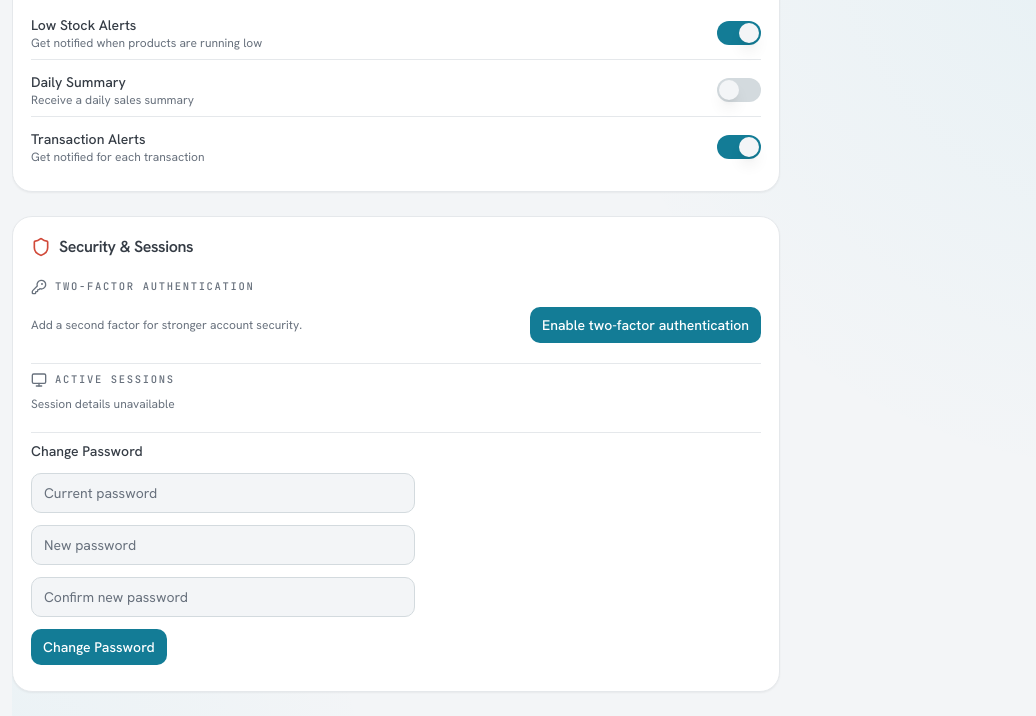
Test: UserProfile change-password control › surfaces the backend error detail when the current password is wrong
(page scrolled)
Type "WrongPass1" into the password field with placeholder "Current password".
click(223, 492); type("WrongPass1")  # box left=31, top=472, right=415, bottom=512
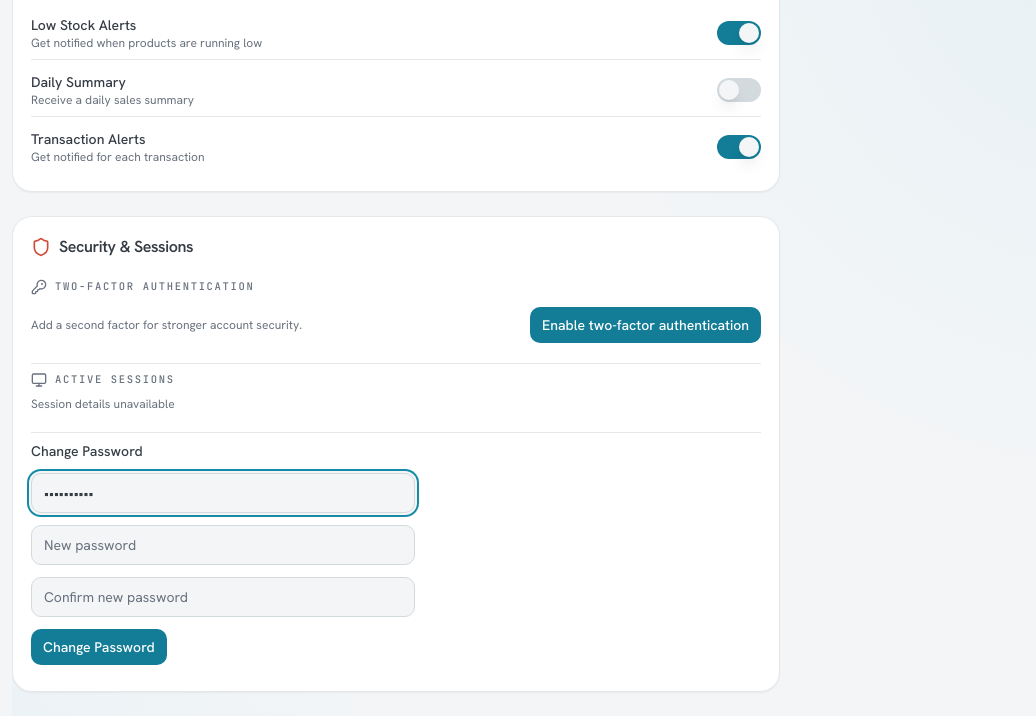
Type "NewPass123" into the password field with placeholder "New password".
click(223, 544); type("NewPass123")  # box left=31, top=524, right=415, bottom=564
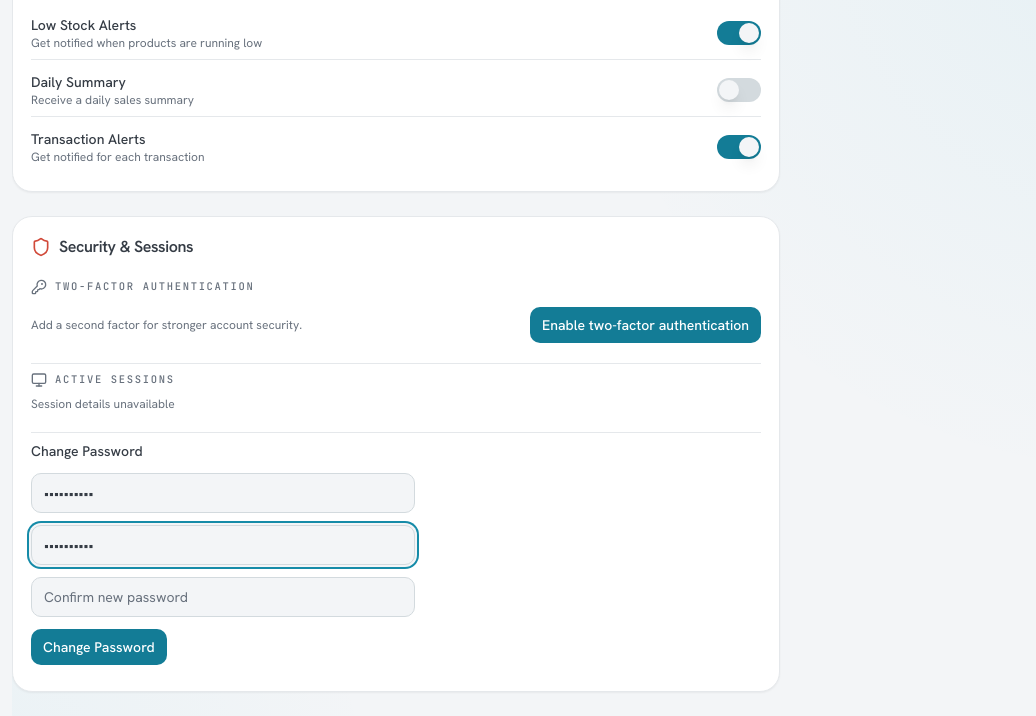
Type "NewPass123" into the password field with placeholder "Confirm new password".
click(223, 596); type("NewPass123")  # box left=31, top=576, right=415, bottom=616
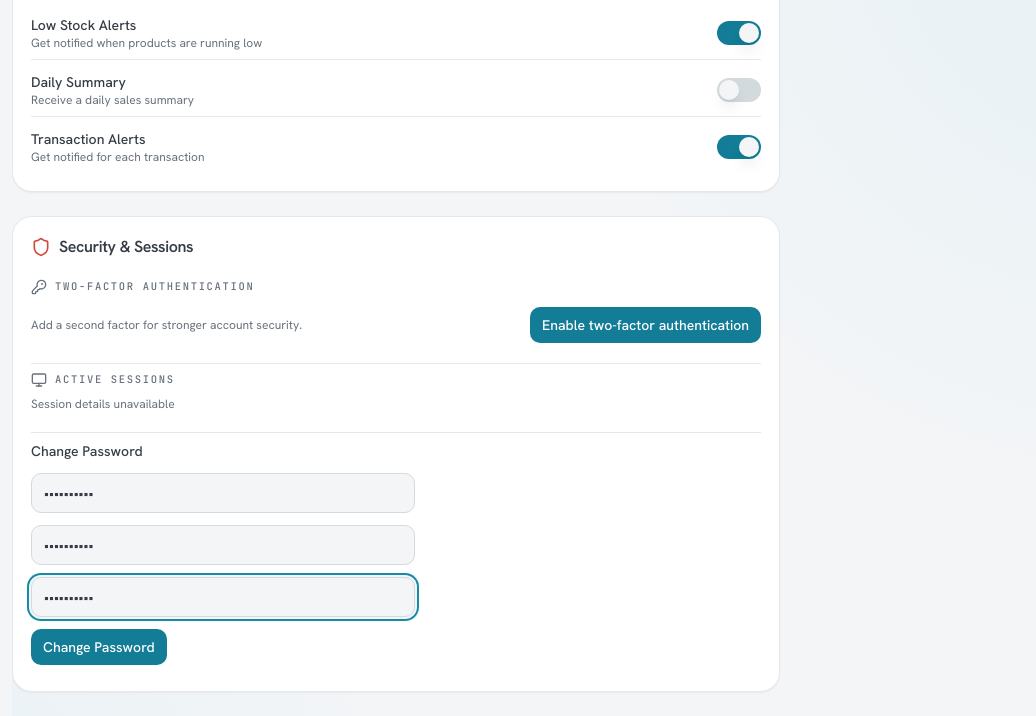
Click the button "Change Password".
click(99, 646)  # box left=31, top=628, right=167, bottom=664
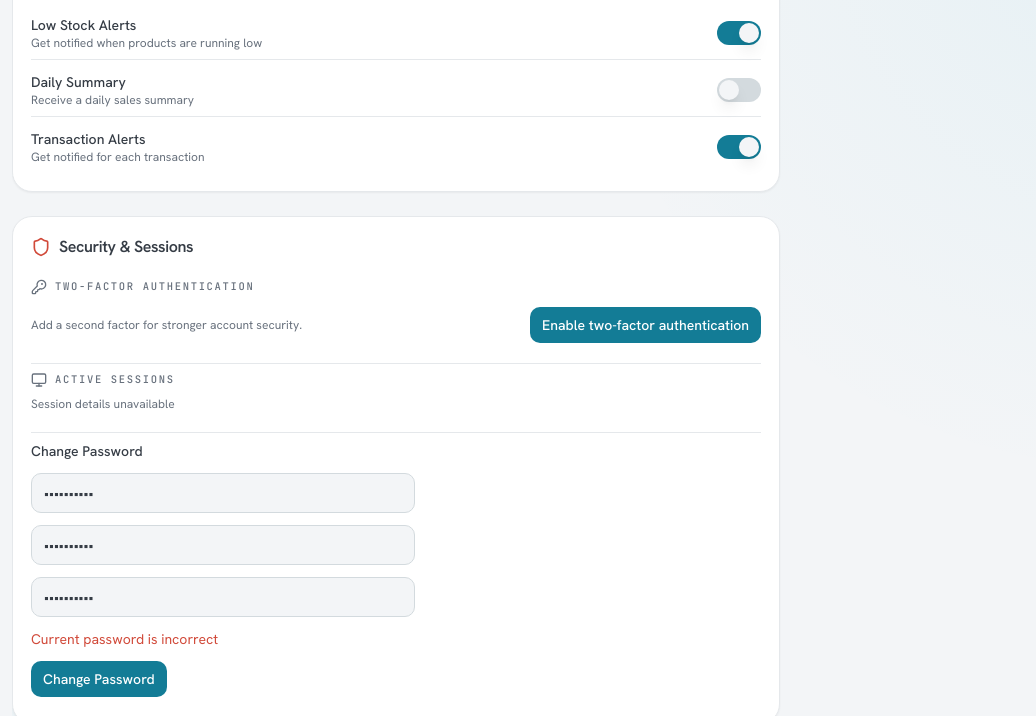
Check: the text "Current password is incorrect" is shown, box left=31, top=630, right=218, bottom=648
